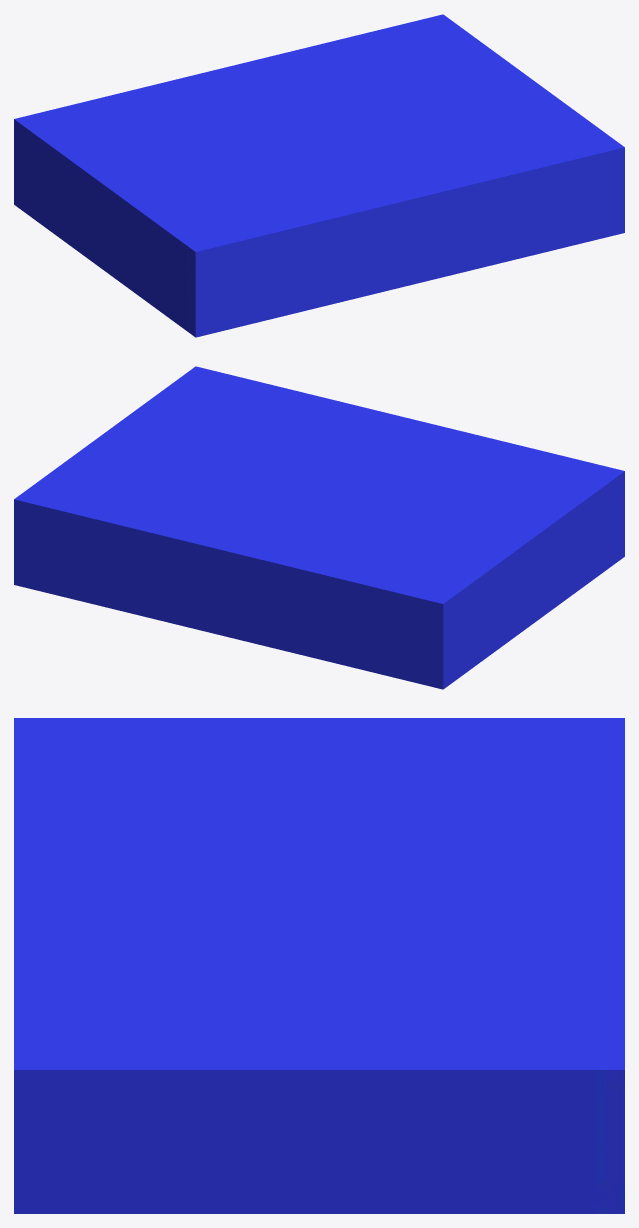
Rendered from remate.glb.
3 views of the same model, one above another, from view 1: azimuth 30°, elevation 25°; view 2: azimuth 150°, elevation 25°; view 3: azimuth 270°, elevation 25° (orthographic). The views are drawn at different scales.
Visible parts, largest first — view 1: remate; view 2: remate; view 3: remate.
Part boxes in pixels (x1,y1,x2,y2): remate: (14,14,624,337); remate: (14,366,624,689); remate: (14,718,624,1213).
Size of the model in its own units: 0.21 by 0.04 by 0.154.
Materials: 1 (1 with a texture image).
